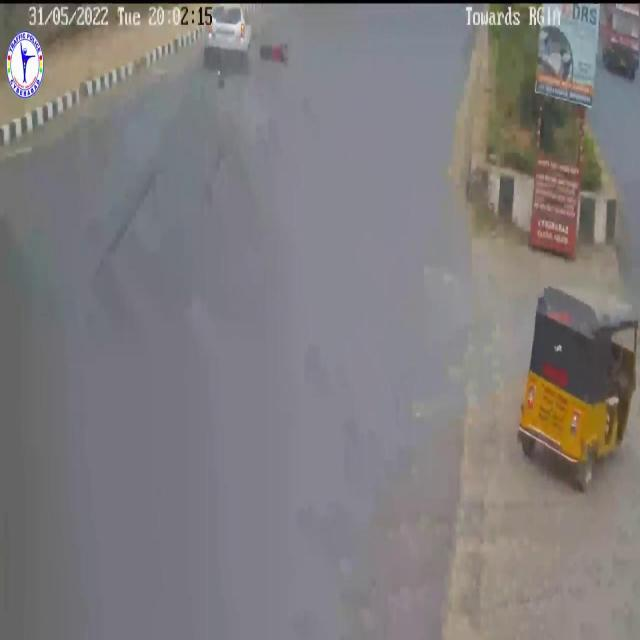accident: (198, 0, 294, 100)
